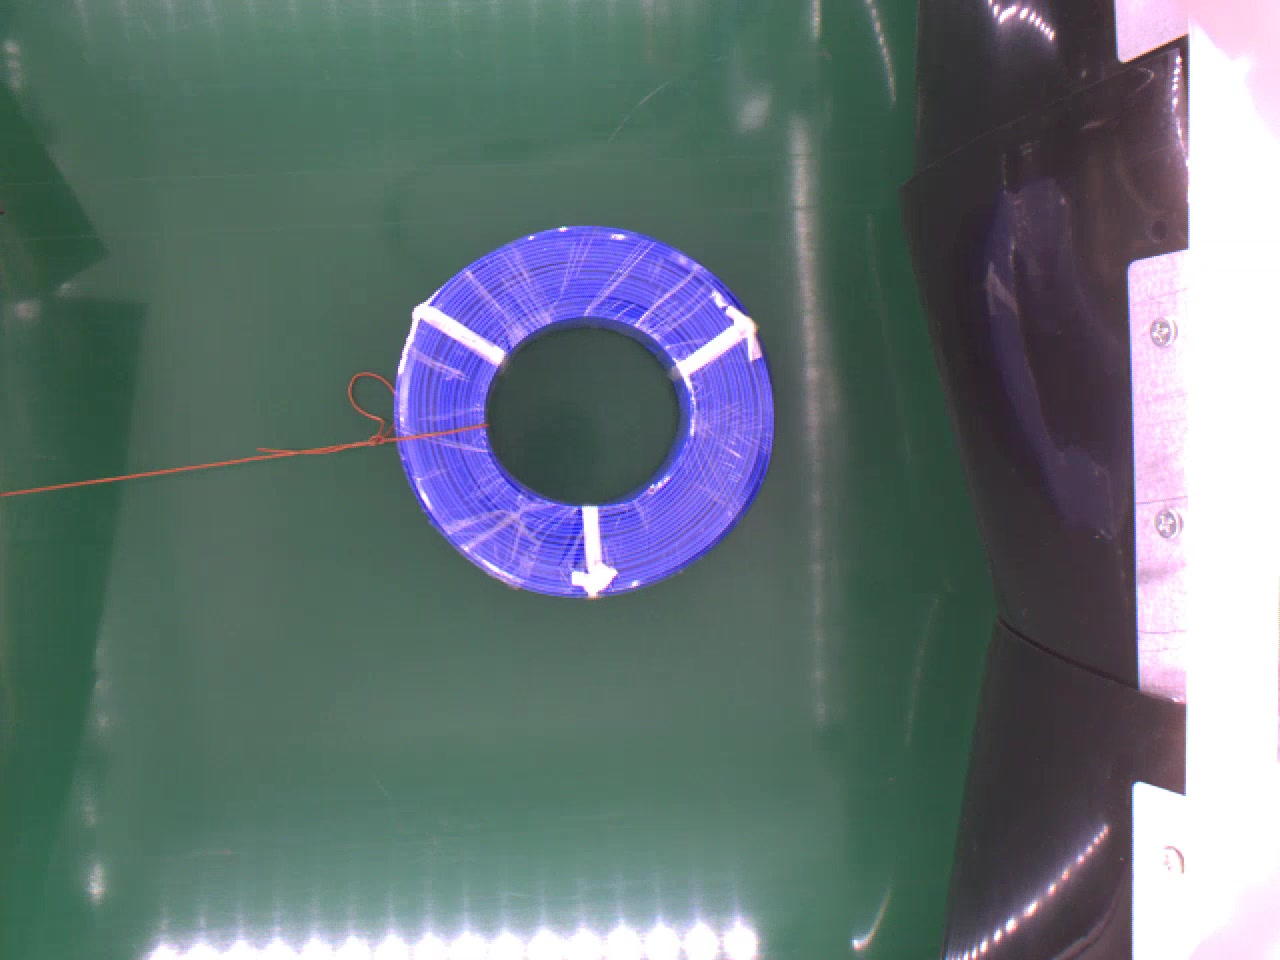blue: (385, 224, 776, 602)
